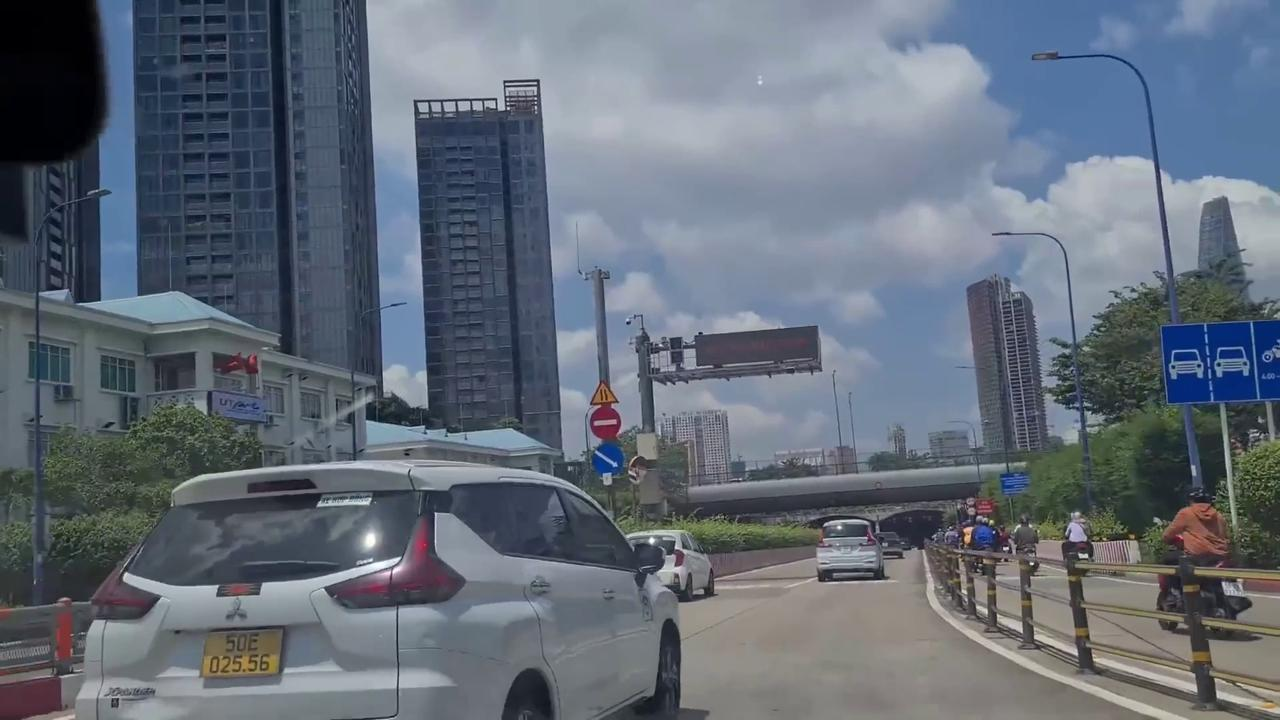Cấm đi ngược chiều: (588, 406, 623, 442)
Hướng phải đi vòng sang phải: (591, 440, 625, 477)
Làn đường cho từng xe: (1152, 314, 1280, 403)
Đuờng hẹp: (587, 377, 621, 406)
